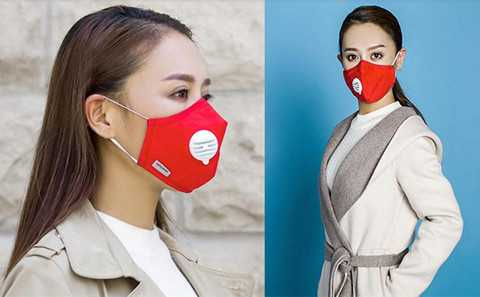face_mask: (126, 41, 221, 194), (340, 23, 399, 103)
